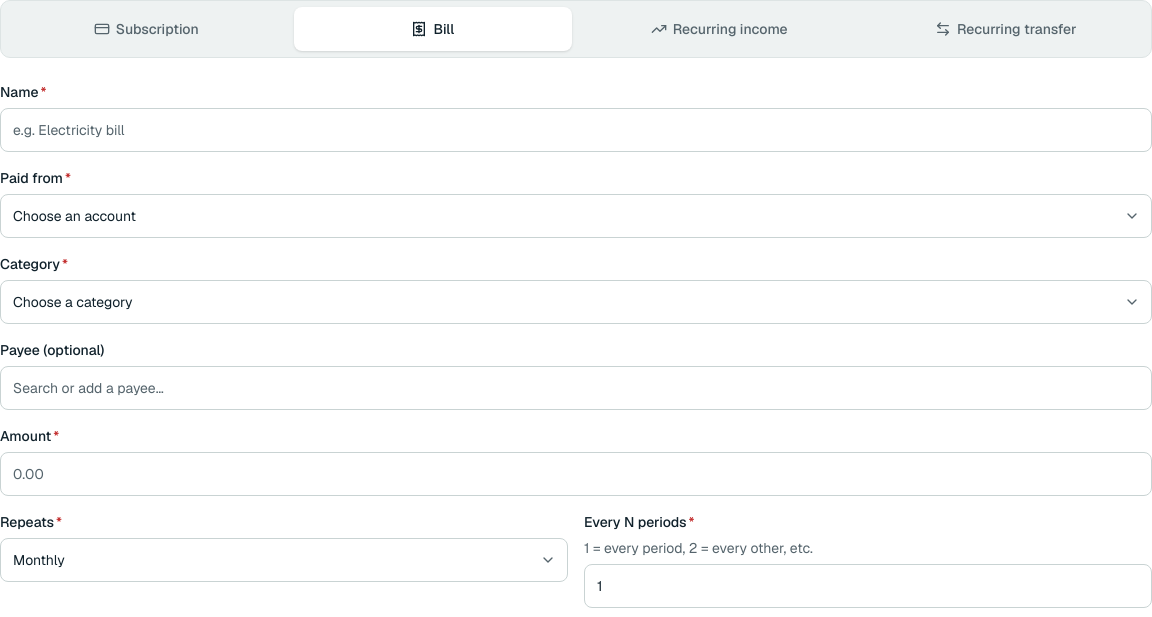
Test case: RecurringItemForm › shows the shared recurrence schedule fields (frequency, interval, processing mode) on every kind
expect the dropdown labelled "Repeats" is shown: met, box x1=0 y1=538 x2=568 y2=582
expect the field labelled "Every N periods" is shown: met, box x1=584 y1=564 x2=1151 y2=608
Click the radio button labelled "Recurring transfer" at (1006, 29), box x1=866 y1=7 x2=1145 y2=51
(page scrolled)
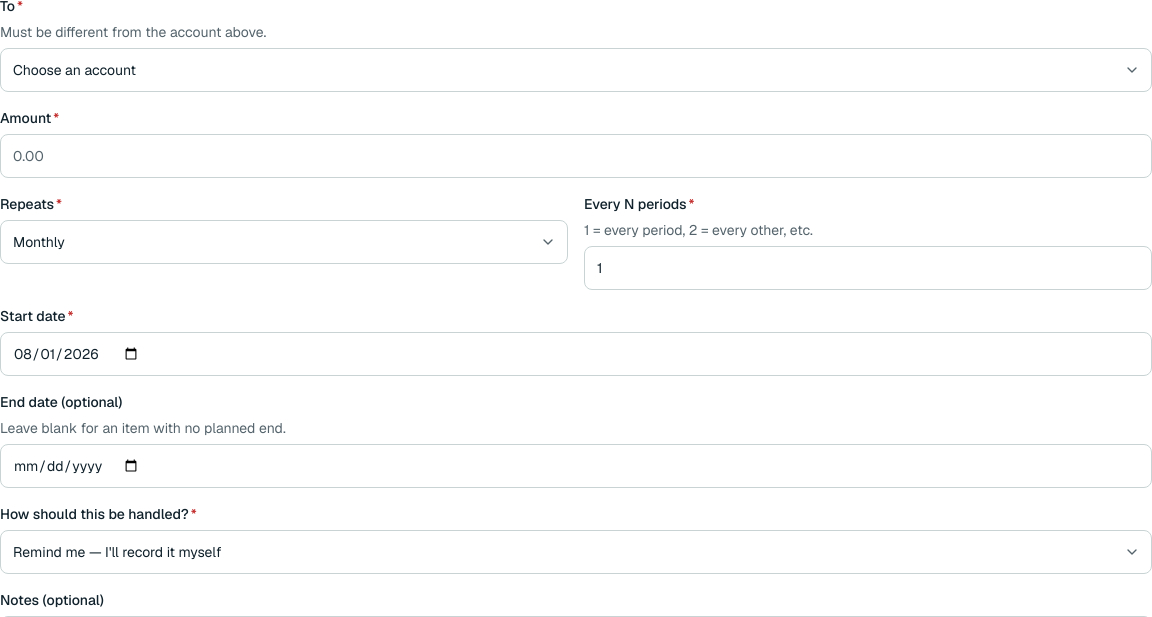
expect the dropdown labelled "Repeats" is shown: met, box x1=0 y1=220 x2=568 y2=264
expect the dropdown labelled "How should this be handled?" is shown: met, box x1=0 y1=530 x2=1151 y2=574
